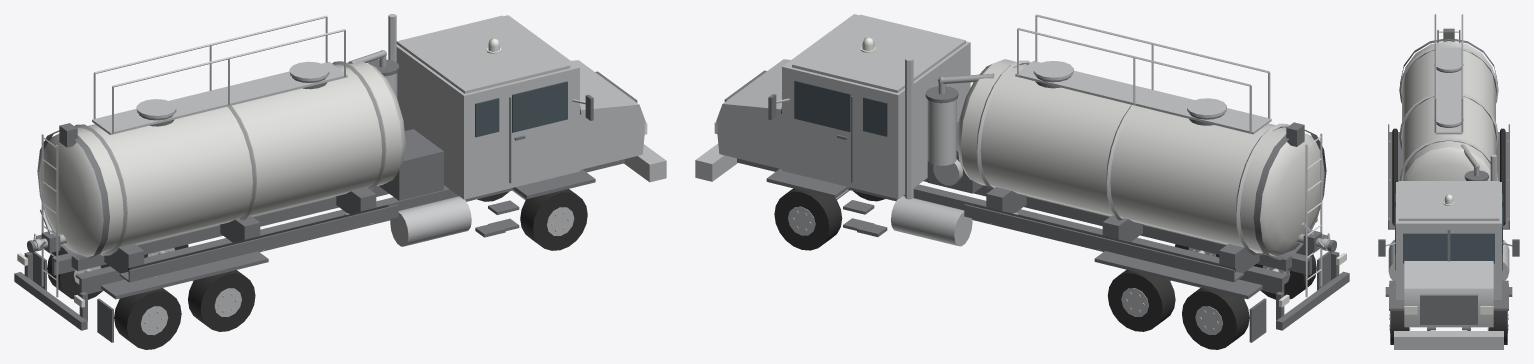
File: truck_lite.glb
3 renders of one model, left to right at view 1: azimuth 30°, elevation 25°; view 2: azimuth 150°, elevation 25°; view 3: azimuth 270°, elevation 25°, orthographic. The views are drawn at different scales.
Visible parts, largest first — view 1: KIT_tank, KIT_steel, KIT_steel_dark, KIT_detail_steel, KIT_detail_steel_dark, KIT_axle_3_tire, KIT_glass, KIT_axle_1_tire, KIT_axle_2_tire, KIT_axle_3_hub, KIT_axle_2_hub, KIT_rubber (+1 smaller); view 2: KIT_tank, KIT_steel, KIT_steel_dark, KIT_detail_steel, KIT_detail_steel_dark, KIT_axle_3_tire, KIT_glass, KIT_axle_1_tire, KIT_axle_2_tire, KIT_axle_3_hub, KIT_axle_2_hub, KIT_rubber (+2 smaller); view 3: KIT_steel, KIT_tank, KIT_detail_steel, KIT_steel_dark, KIT_glass, KIT_detail_steel_dark, KIT_rubber, KIT_axle_1_tire, KIT_headlights, KIT_pipe.
Part boxes in pixels (x1,y1,x2,y2): KIT_tank: (39,61,405,256); KIT_steel: (33,14,666,276); KIT_steel_dark: (14,59,637,330); KIT_detail_steel: (41,15,585,297); KIT_detail_steel_dark: (32,94,595,342); KIT_axle_3_tire: (47,247,181,349); KIT_glass: (475,81,581,137); KIT_axle_1_tire: (477,189,587,250); KIT_axle_2_tire: (144,244,255,331); KIT_axle_3_hub: (73,266,168,335); KIT_axle_2_hub: (147,248,241,316); KIT_rubber: (128,205,388,272); KIT_tank: (957,59,1324,256); KIT_steel: (695,14,1330,276); KIT_steel_dark: (724,70,1349,330); KIT_detail_steel: (776,14,1322,297); KIT_detail_steel_dark: (766,94,1332,342); KIT_axle_3_tire: (1182,247,1316,349); KIT_glass: (781,80,887,136); KIT_axle_1_tire: (774,188,885,250); KIT_axle_2_tire: (1107,244,1219,331); KIT_axle_3_hub: (1195,265,1290,334); KIT_axle_2_hub: (1121,247,1216,316); KIT_rubber: (974,204,1235,272); KIT_steel: (1389,57,1508,349); KIT_tank: (1402,41,1495,180); KIT_detail_steel: (1385,14,1512,280); KIT_steel_dark: (1388,28,1509,330); KIT_glass: (1395,193,1502,263); KIT_detail_steel_dark: (1378,239,1519,310); KIT_rubber: (1392,128,1505,225); KIT_axle_1_tire: (1390,311,1507,344); KIT_headlights: (1404,306,1493,314); KIT_pipe: (1460,144,1479,176).
Size of the model in its own units: 11.36 by 4.42 by 3.15.
